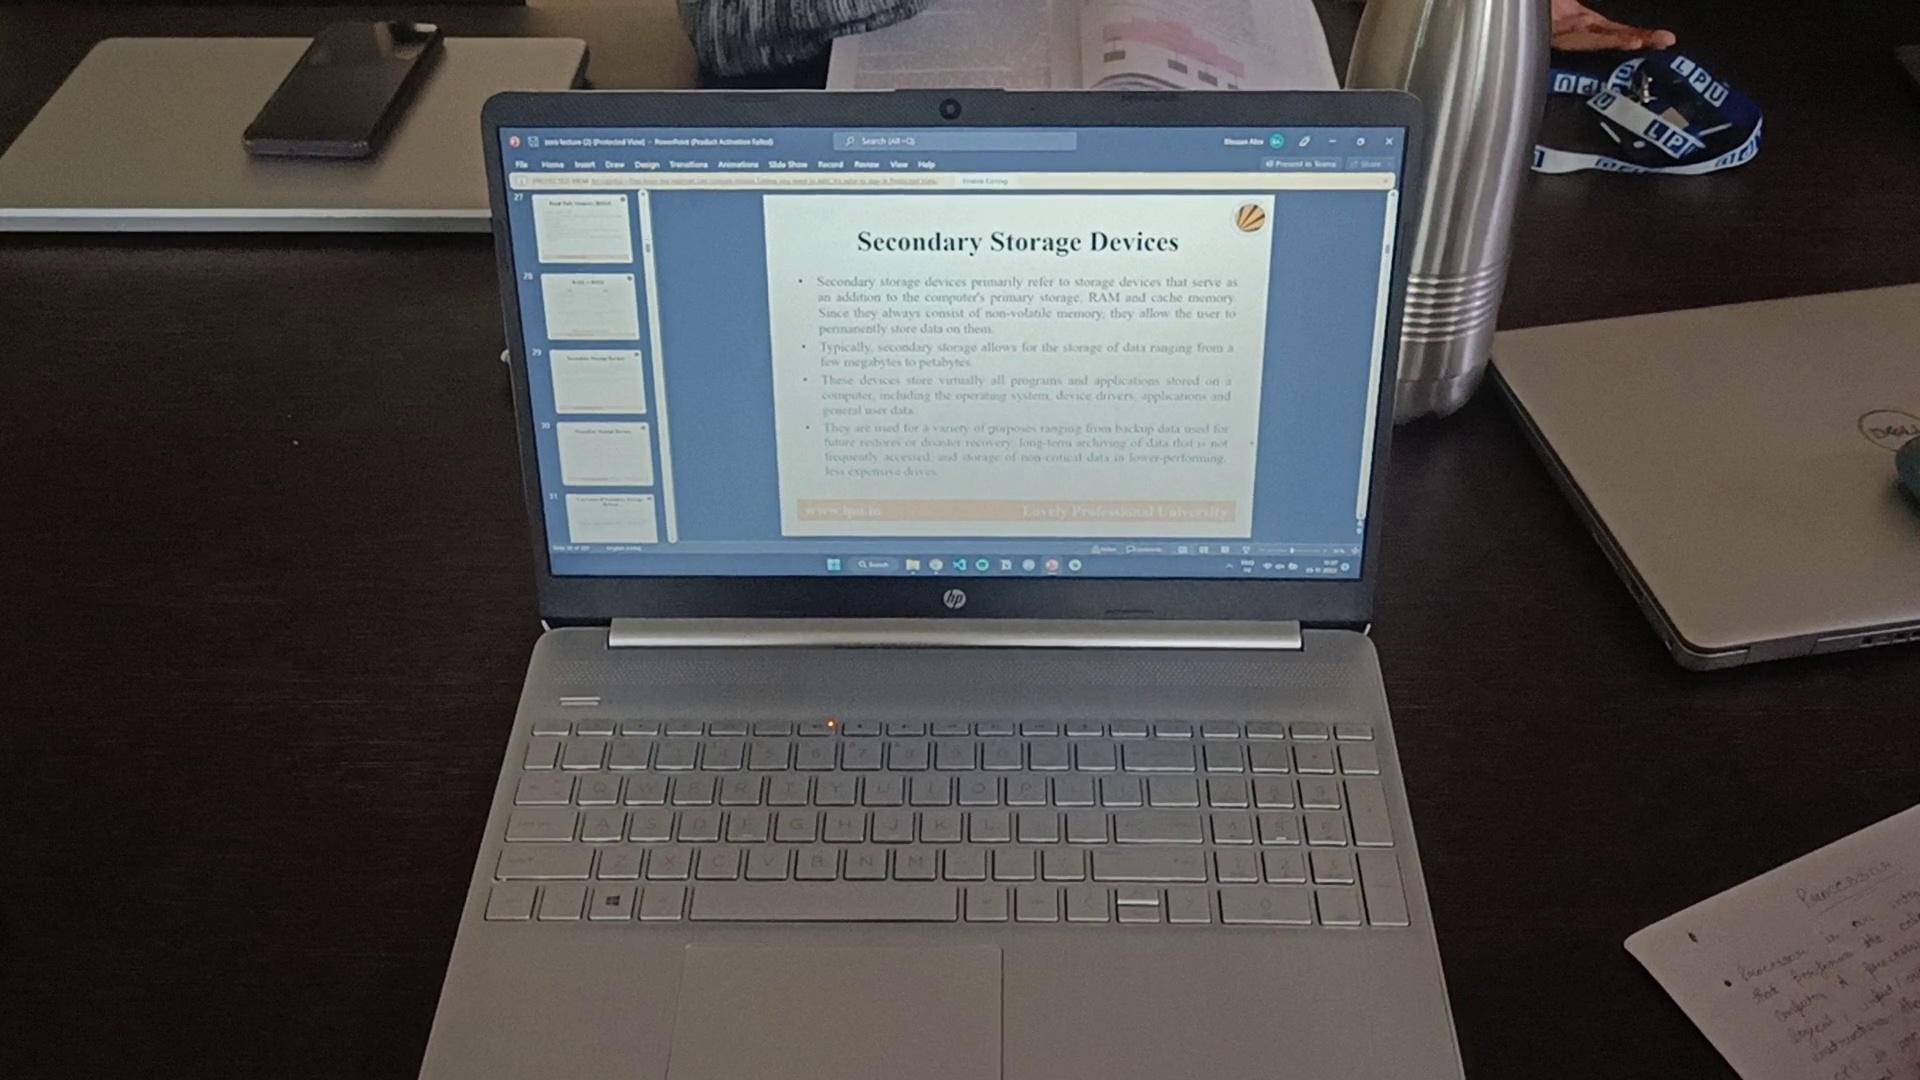laptop: (472, 94, 1489, 1080), (1489, 311, 1920, 661), (22, 1, 585, 261)
mobile: (235, 32, 435, 161)
